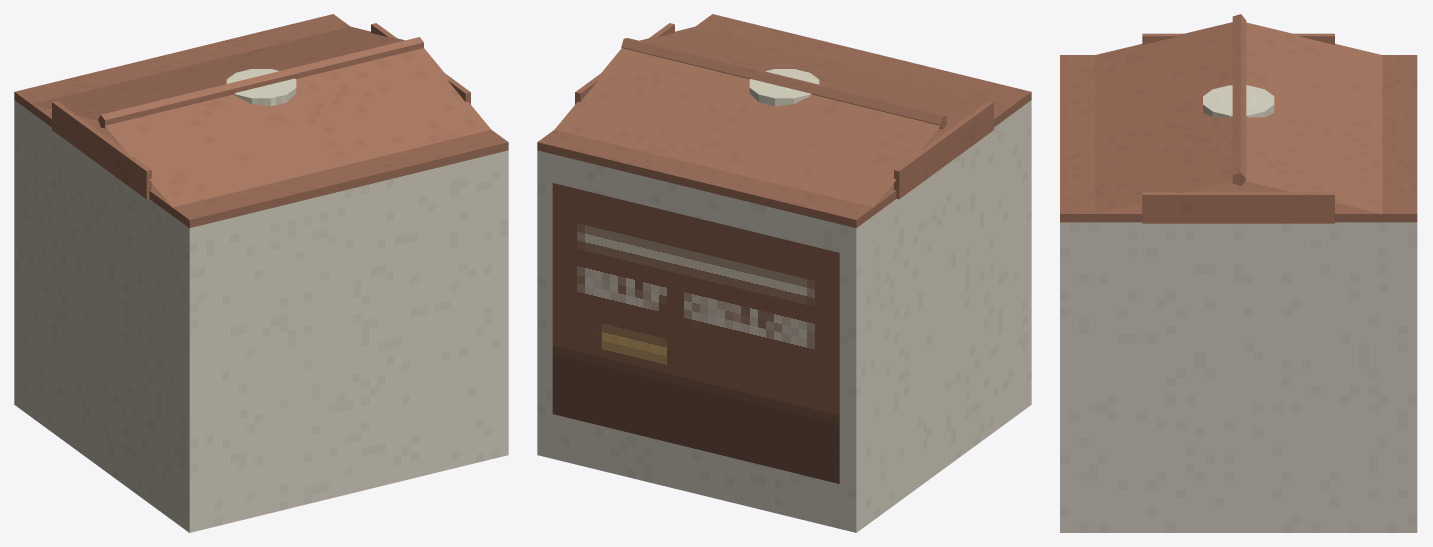
The model's file is carton_sealed.glb.
3 views of the same model, side by side, from view 1: azimuth 30°, elevation 25°; view 2: azimuth 150°, elevation 25°; view 3: azimuth 270°, elevation 25° (orthographic).
Parts seen in each view (by area): view 1: block_creased carton, block_paper fold 1, block_sealed top, block_paper fold -1, block_clipped seam 0, block_roof end -1, block_threaded cap; view 2: block_creased carton, block_front panel, block_paper fold -1, block_sealed top, block_paper fold 1, block_clipped seam 0, block_roof end -1, block_threaded cap; view 3: block_creased carton, block_paper fold 1, block_paper fold -1, block_sealed top, block_roof end 1, block_clipped seam 0, block_threaded cap, block_roof end -1.
Boxes of the visible parts, x1,y1,x2,y2 form: block_creased carton: [14, 100, 508, 532]; block_paper fold 1: [105, 48, 490, 207]; block_sealed top: [14, 14, 508, 228]; block_paper fold -1: [32, 26, 404, 120]; block_clipped seam 0: [98, 37, 423, 128]; block_roof end -1: [52, 101, 151, 199]; block_threaded cap: [226, 69, 296, 106]; block_creased carton: [537, 100, 1031, 532]; block_front panel: [552, 183, 839, 483]; block_paper fold -1: [555, 48, 940, 207]; block_sealed top: [537, 14, 1031, 228]; block_paper fold 1: [640, 26, 1013, 121]; block_clipped seam 0: [621, 38, 946, 129]; block_roof end -1: [894, 101, 993, 199]; block_threaded cap: [749, 69, 819, 106]; block_creased carton: [1060, 222, 1417, 532]; block_paper fold 1: [1095, 22, 1232, 213]; block_paper fold -1: [1245, 22, 1382, 213]; block_sealed top: [1060, 55, 1417, 222]; block_roof end 1: [1142, 192, 1334, 223]; block_clipped seam 0: [1232, 14, 1246, 185]; block_threaded cap: [1203, 85, 1274, 117]; block_roof end -1: [1142, 33, 1334, 44].
Bounding box in the file's own units: 0.1249 × 0.13 × 0.1173.
Materials: 1 (1 with a texture image).
